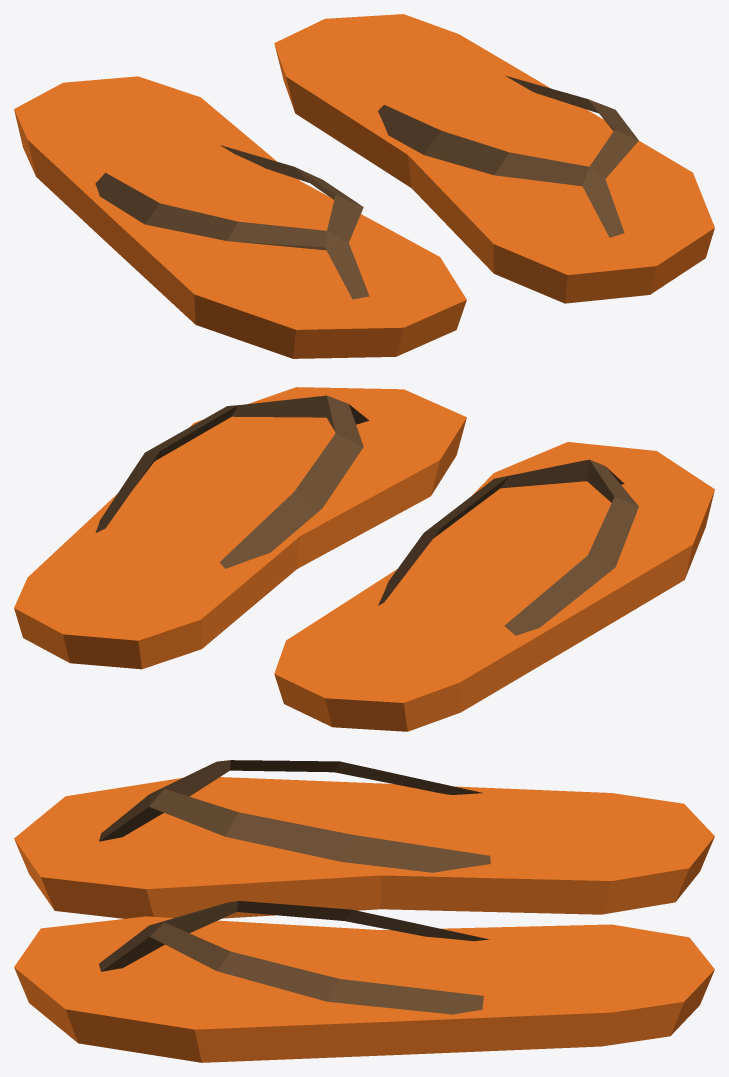
File: beach-flip-flops.glb
3 views of the same model, one above another, from view 1: azimuth 30°, elevation 25°; view 2: azimuth 150°, elevation 25°; view 3: azimuth 270°, elevation 25° (orthographic). The views are drawn at different scales.
Visible parts, largest first — view 1: flip-flops; view 2: flip-flops; view 3: flip-flops.
Boxes of the visible parts, <box> form: flip-flops: <box>14,14,714,358</box>; flip-flops: <box>14,387,714,731</box>; flip-flops: <box>14,760,714,1062</box>.
Bounding box in the file's own units: 0.2839 × 0.0433 × 0.3316.
